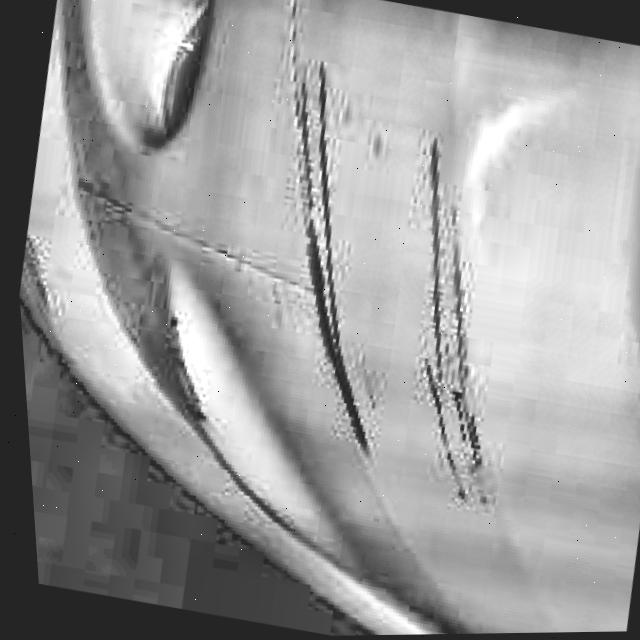bumper_scratch: (226, 65, 547, 506)
